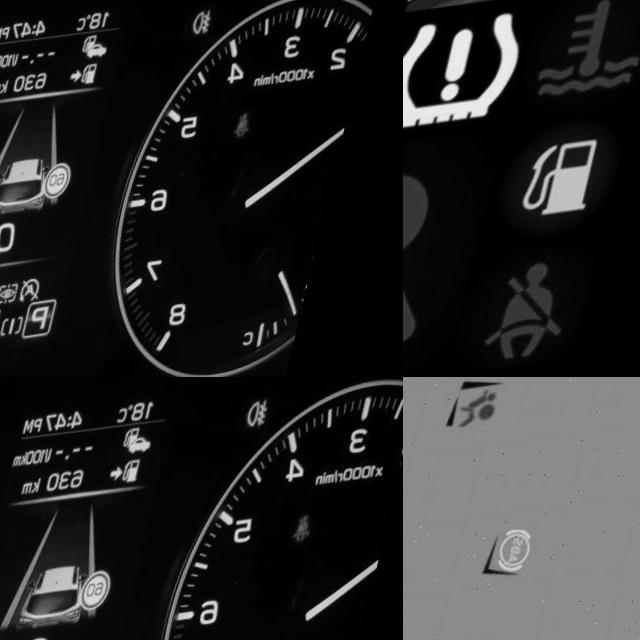Seat Belt: (306, 529, 331, 562), (245, 126, 269, 156)
